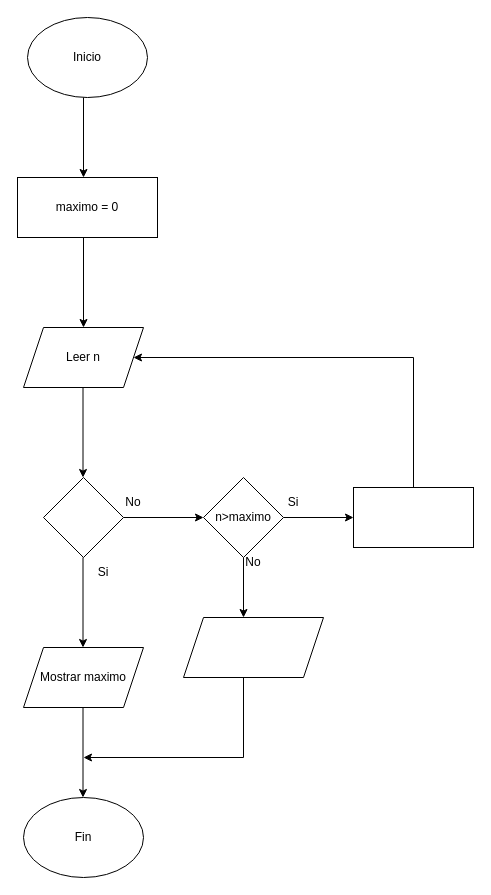
The diagram is 491 pixels wide and 895 high, and some of its shapes have lost their labels. The shapes that lost their labels are listed below. From the top down, each one's centre as x and y in pixels, then its label:
point (83, 517): n=-1
point (413, 517): maximo=n
point (253, 647): Mostrar "no es un numero positivo"
